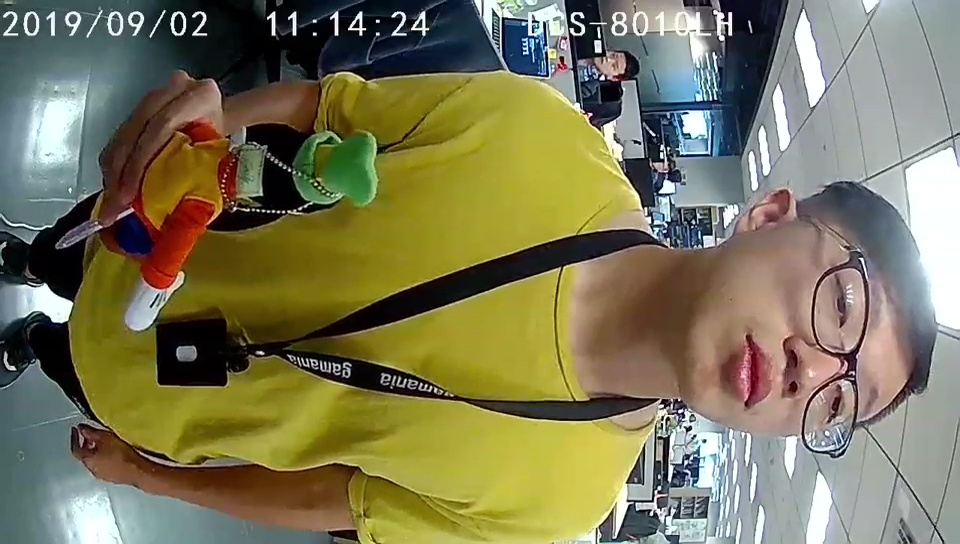goofy: (126, 128, 376, 331)
